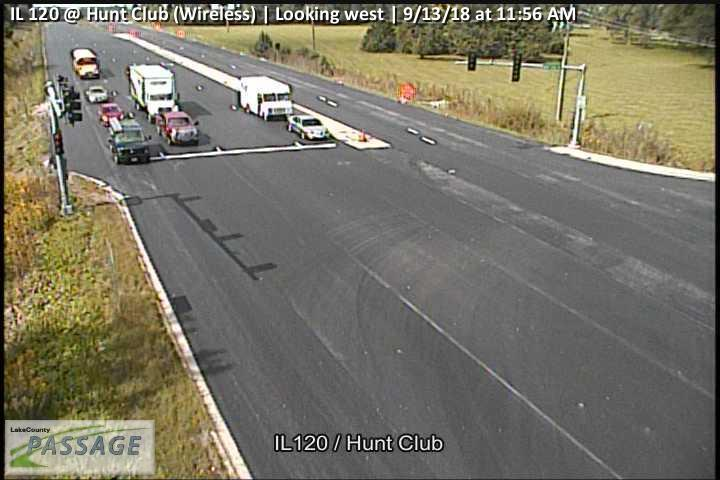SUV: (106, 118, 151, 165), (155, 110, 200, 146)
Sedan: (286, 114, 330, 141), (96, 102, 124, 127), (85, 85, 107, 104)
Truck: (128, 62, 180, 122), (237, 74, 295, 121), (70, 47, 101, 81)
